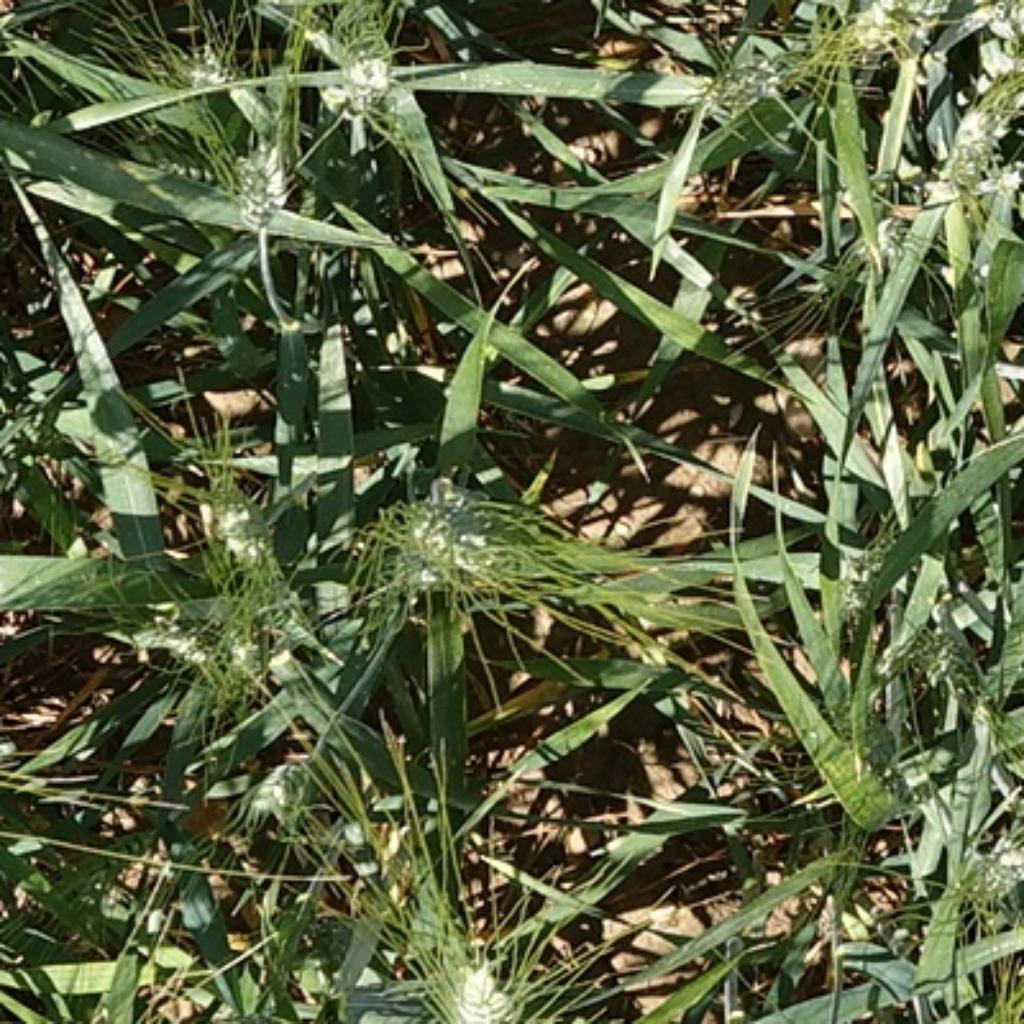0-0: (368, 494, 512, 619), (23, 830, 162, 955), (304, 0, 419, 130), (821, 504, 924, 619), (153, 604, 284, 693), (194, 460, 286, 570), (693, 43, 806, 128), (235, 739, 337, 824), (158, 35, 265, 115), (893, 606, 990, 693), (422, 950, 532, 1024), (948, 85, 1024, 188), (220, 128, 294, 220), (816, 0, 903, 66), (979, 799, 1024, 915), (847, 215, 919, 284)
